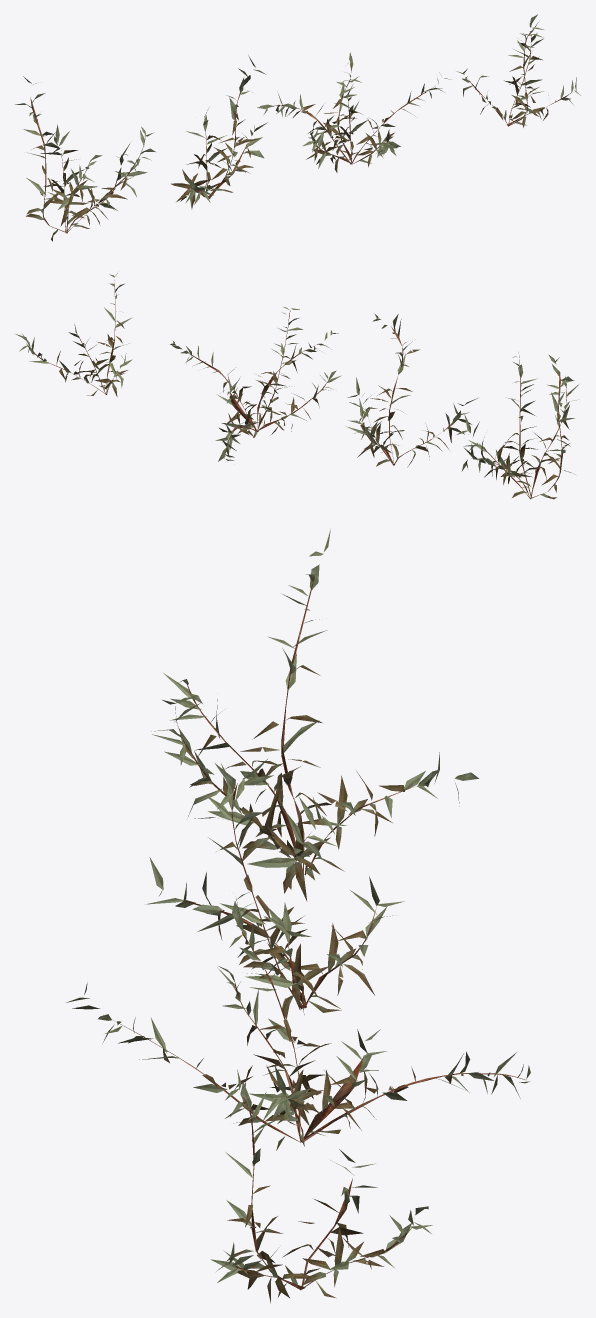
File: shrub_02.glb
The picture shows the model from 3 angles, top to bottom: view 1: azimuth 30°, elevation 25°; view 2: azimuth 150°, elevation 25°; view 3: azimuth 270°, elevation 25°; orthographic projection. The views are drawn at different scales.
Parts seen in each view (by area): view 1: lod0; view 2: lod0; view 3: lod0.
Part boxes in pixels (x1,y1,x2,y2): lod0: [15, 14, 580, 241]; lod0: [15, 273, 578, 499]; lod0: [66, 528, 530, 1303].
Size of what is drawn, in the model's own units: 9.2 by 2.58 by 3.49.
Materials: 1 (1 with a texture image).
